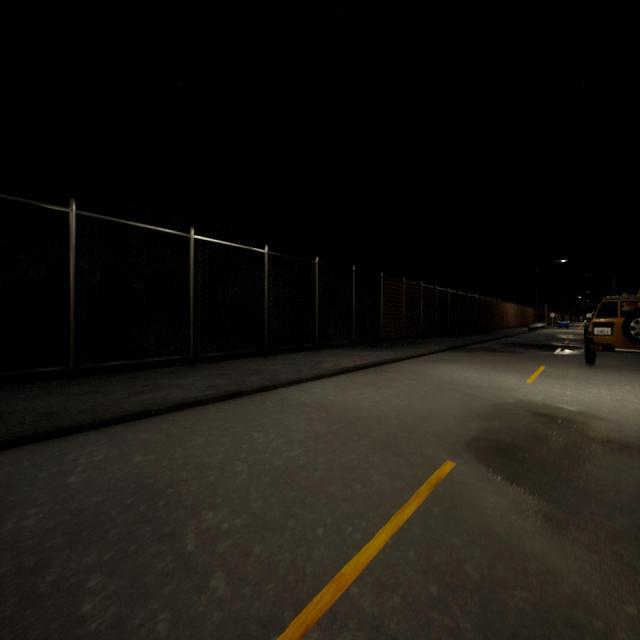Traffic_Signs: (550, 312, 555, 318)
Vehicle: (583, 294, 640, 366), (558, 317, 569, 330)
